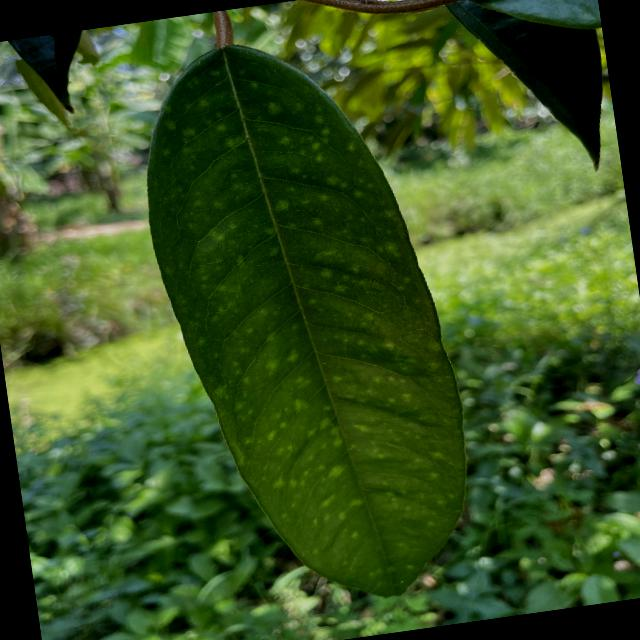Leaf Spot: (118, 3, 490, 624)
